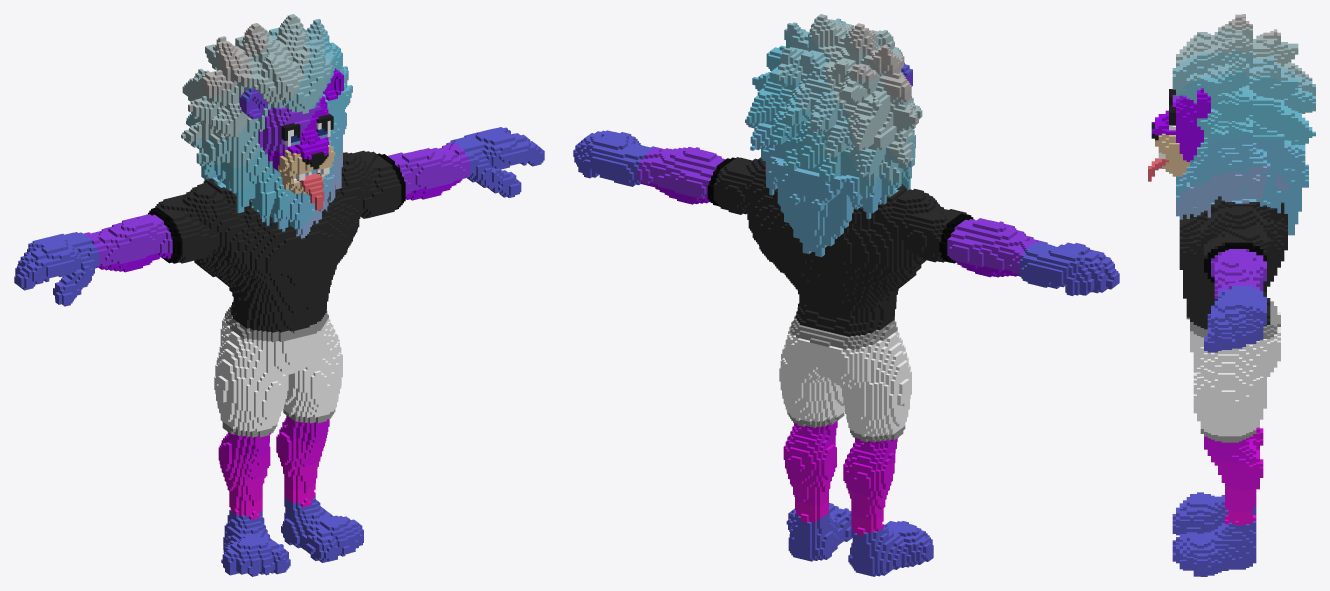
File: 137-zFbtikEb.glb
3 renders of one model, left to right at view 1: azimuth 30°, elevation 25°; view 2: azimuth 150°, elevation 25°; view 3: azimuth 270°, elevation 25°, orthographic. The views are drawn at different scales.
Visible parts, largest first — view 1: tongue_out; view 2: tongue_out; view 3: tongue_out.
Part boxes in pixels (box(x1,y1,x2,y2)): tongue_out: box(14, 14, 544, 576); tongue_out: box(573, 14, 1119, 576); tongue_out: box(1148, 14, 1315, 576).
Bounding box in the file's own units: 17.2 × 16.5 × 4.8.
5 materials, 5 textured.
